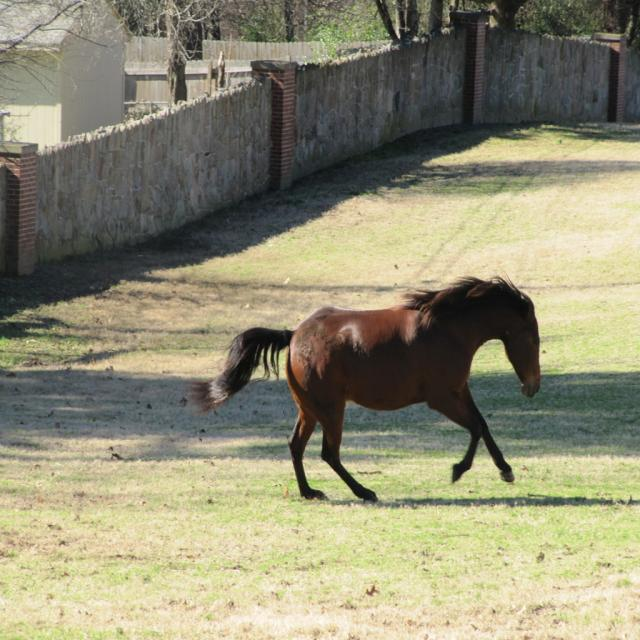Horse: (184, 267, 540, 501)
